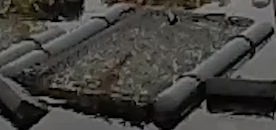bag: (19, 11, 254, 126)
